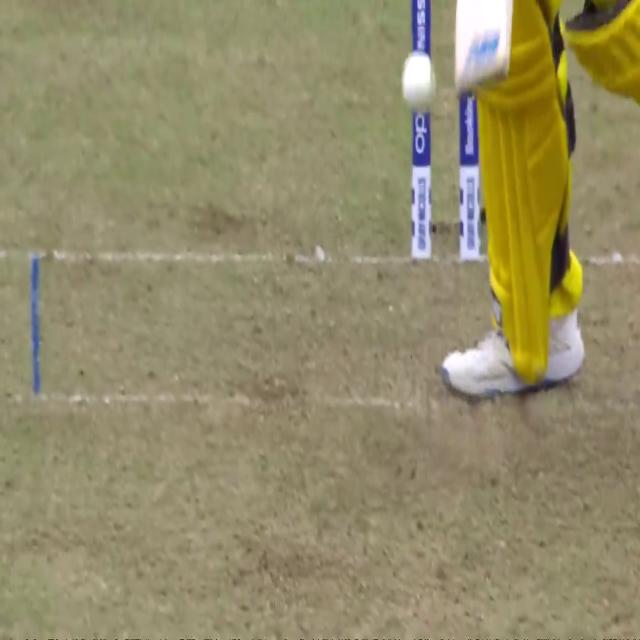ball: (392, 38, 441, 134)
